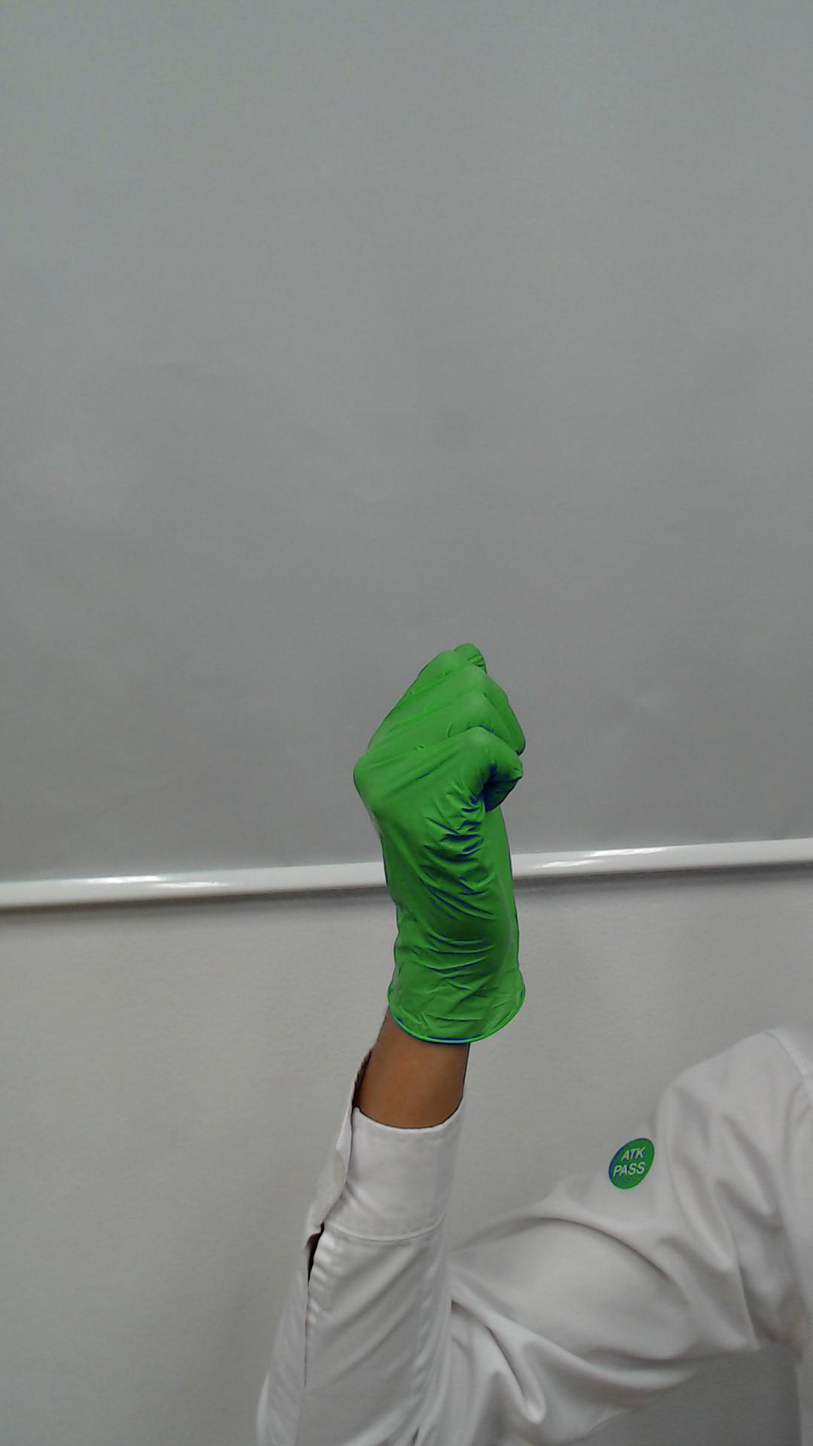gloves: (344, 625, 546, 972)
